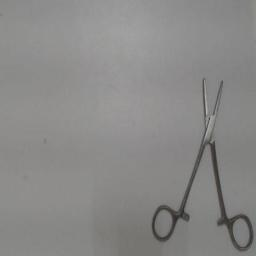Mayo Needle Holder: (148, 66, 256, 254)
